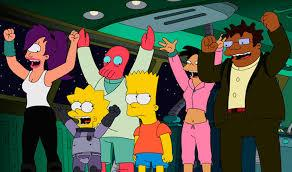Bart: (120, 70, 188, 172)
Lisa: (49, 79, 117, 172)
